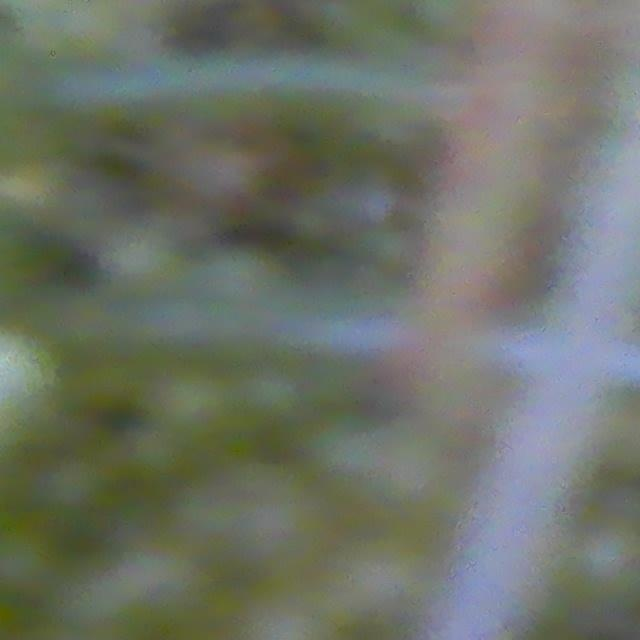SeaGrape: (0, 521, 59, 602), (238, 364, 303, 429)
